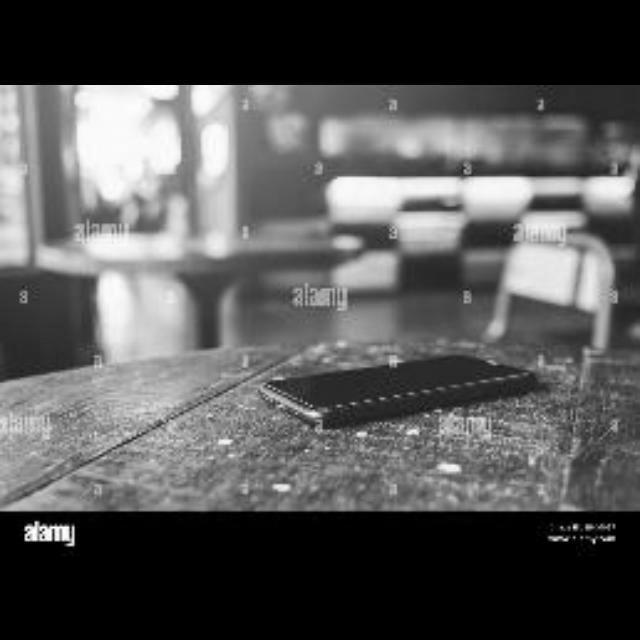fake: (258, 348, 543, 446)
